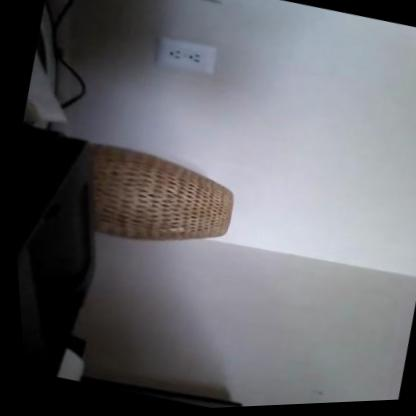OUTLET: (155, 32, 221, 77)
